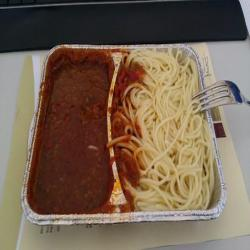bolonese_pasta: (31, 42, 220, 218)
